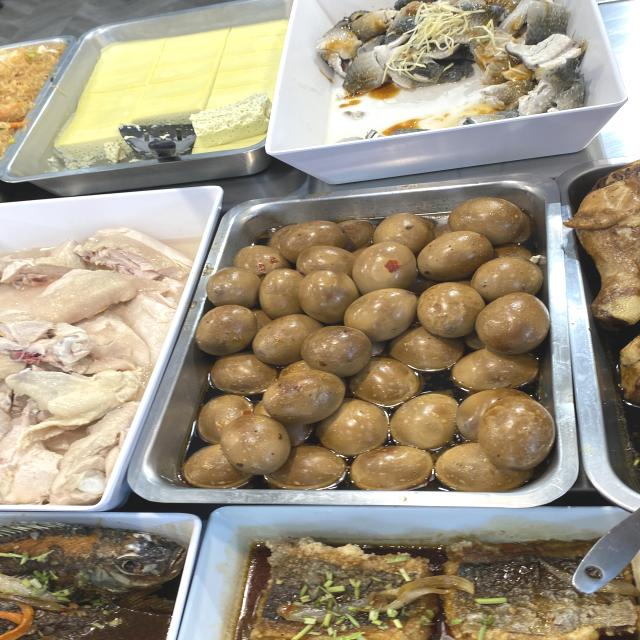braised egg: (244, 242, 522, 460)
